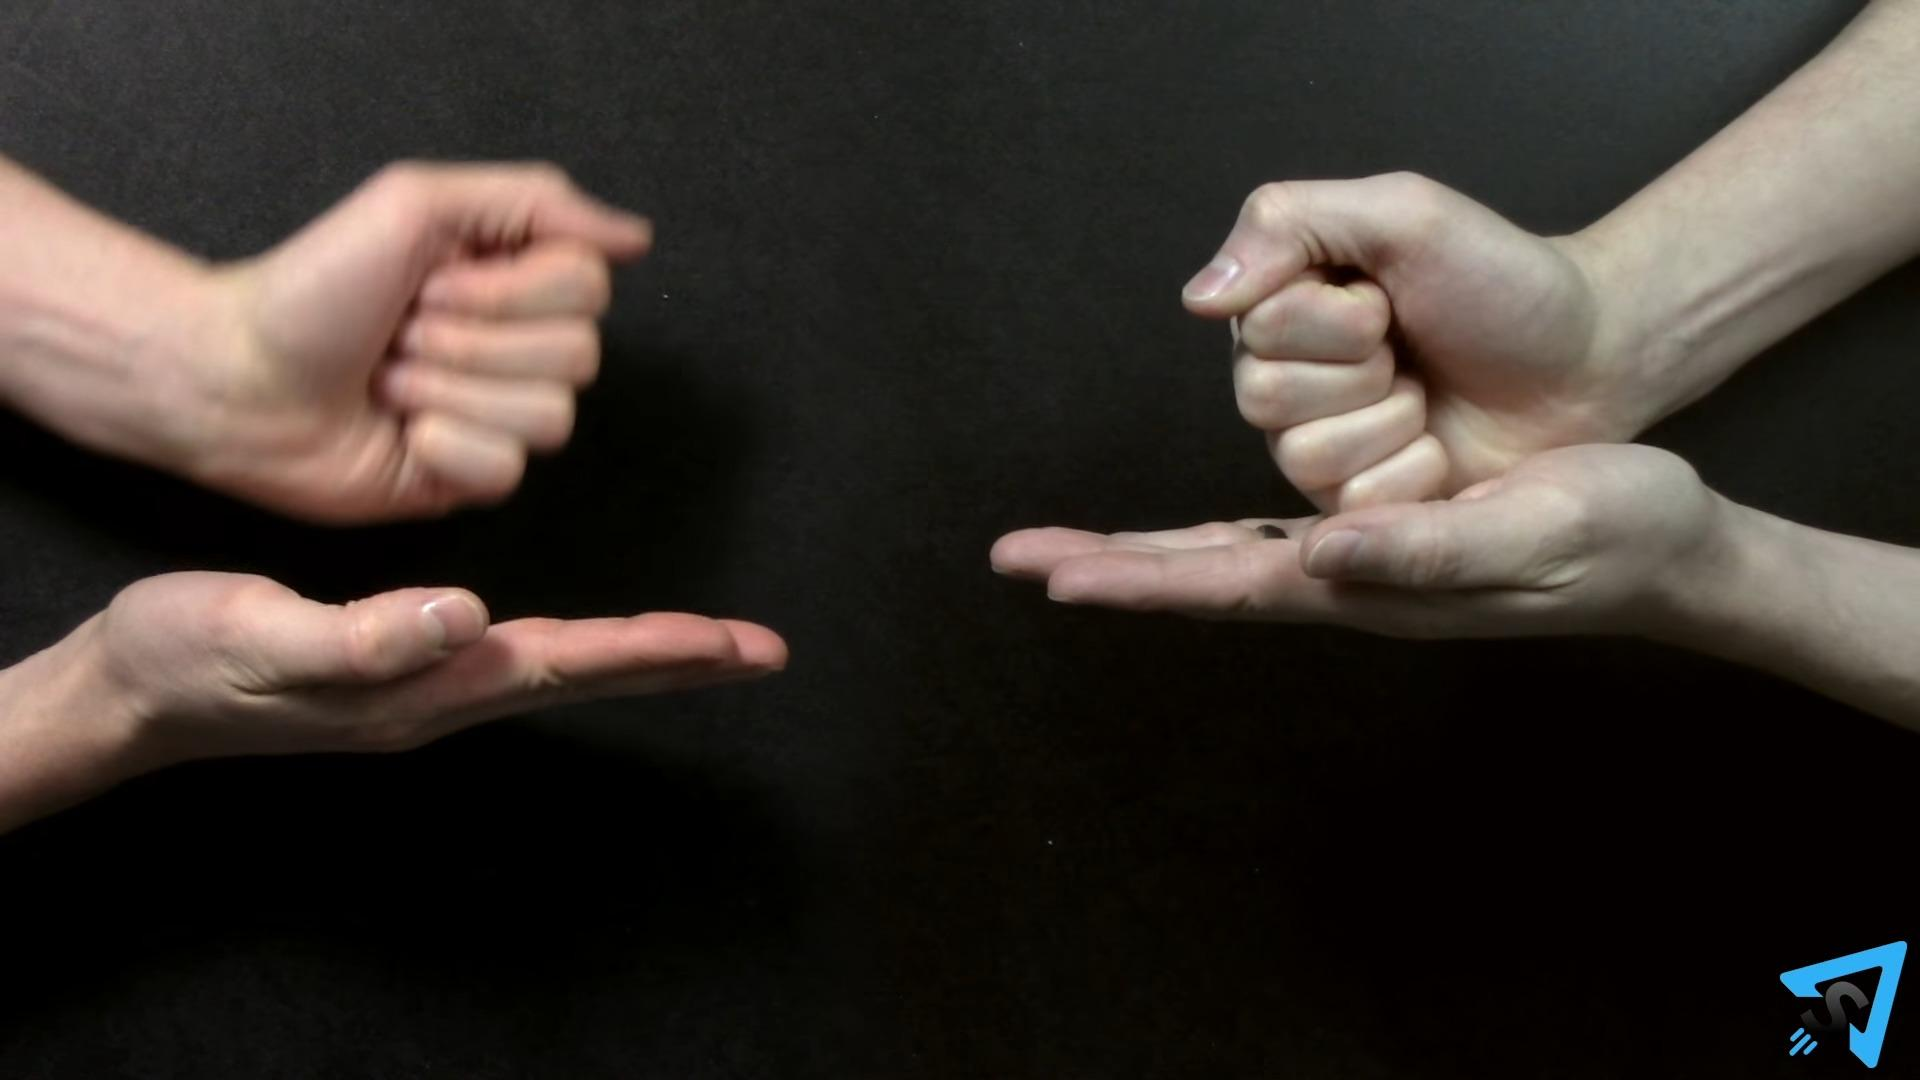Rock: (200, 145, 659, 517), (1180, 165, 1658, 517)
